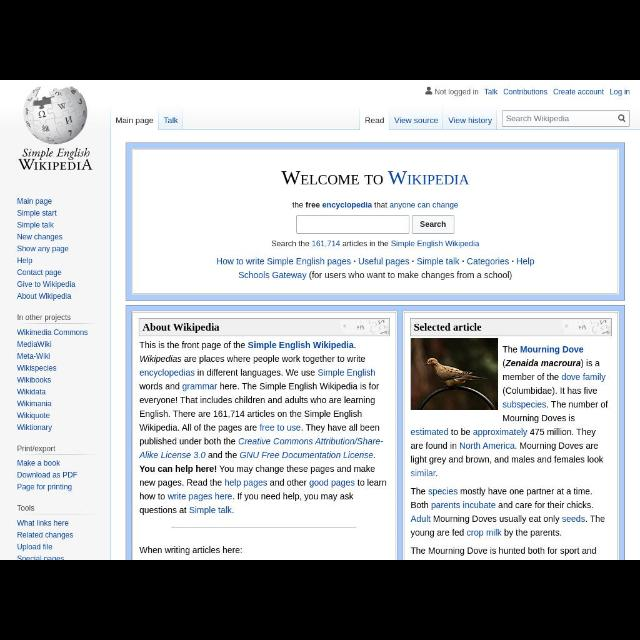icon: (618, 114, 626, 122), (426, 87, 432, 95)
image: (18, 86, 94, 170), (410, 338, 498, 410), (563, 319, 611, 337), (342, 319, 390, 336)
input: (502, 111, 630, 127), (296, 216, 409, 234)
text: (140, 341, 386, 515), (412, 488, 604, 556), (412, 428, 604, 476), (504, 346, 608, 422), (283, 171, 469, 185), (217, 258, 535, 266), (238, 272, 512, 280), (272, 241, 480, 249), (292, 202, 458, 210), (140, 546, 242, 556), (143, 322, 219, 333), (414, 323, 482, 331), (506, 116, 570, 124), (18, 483, 72, 492), (18, 281, 76, 289), (17, 532, 73, 540), (17, 293, 71, 301), (17, 314, 71, 322), (18, 329, 88, 335), (18, 246, 68, 254), (17, 472, 77, 478), (434, 89, 478, 97), (448, 117, 492, 125), (18, 234, 62, 242), (18, 269, 62, 277), (17, 520, 69, 526), (504, 88, 548, 95), (116, 117, 154, 125), (17, 446, 55, 454), (554, 89, 604, 95), (18, 222, 54, 230), (18, 198, 52, 206), (18, 340, 52, 348), (18, 424, 52, 432), (18, 543, 52, 551), (18, 210, 56, 217), (394, 117, 438, 123), (16, 412, 49, 420), (18, 460, 60, 466), (18, 366, 56, 372), (17, 377, 51, 383), (18, 401, 52, 407), (18, 353, 50, 359), (17, 555, 63, 559), (18, 389, 46, 395), (610, 89, 630, 97), (420, 221, 446, 227), (18, 504, 34, 512), (164, 116, 178, 124), (18, 257, 32, 265), (366, 118, 384, 124), (484, 89, 498, 95)
textbutton: (140, 318, 390, 336), (410, 319, 612, 337), (414, 216, 454, 234)
toolbar: (111, 109, 639, 129)
